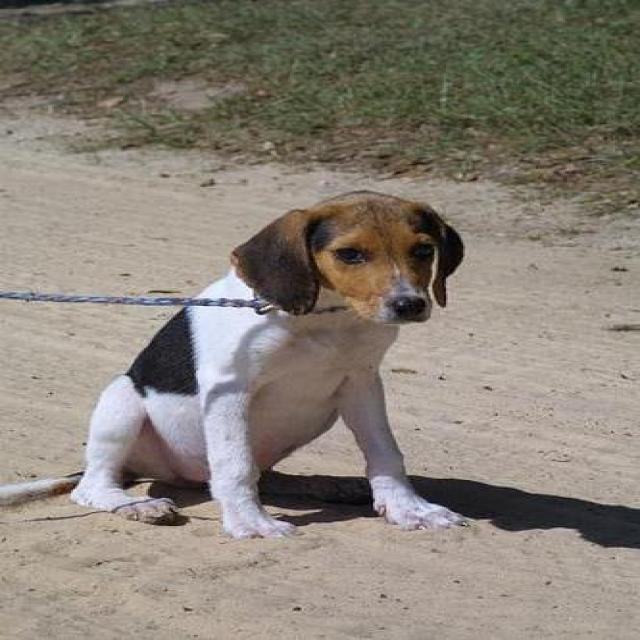sitting: (67, 188, 490, 548)
